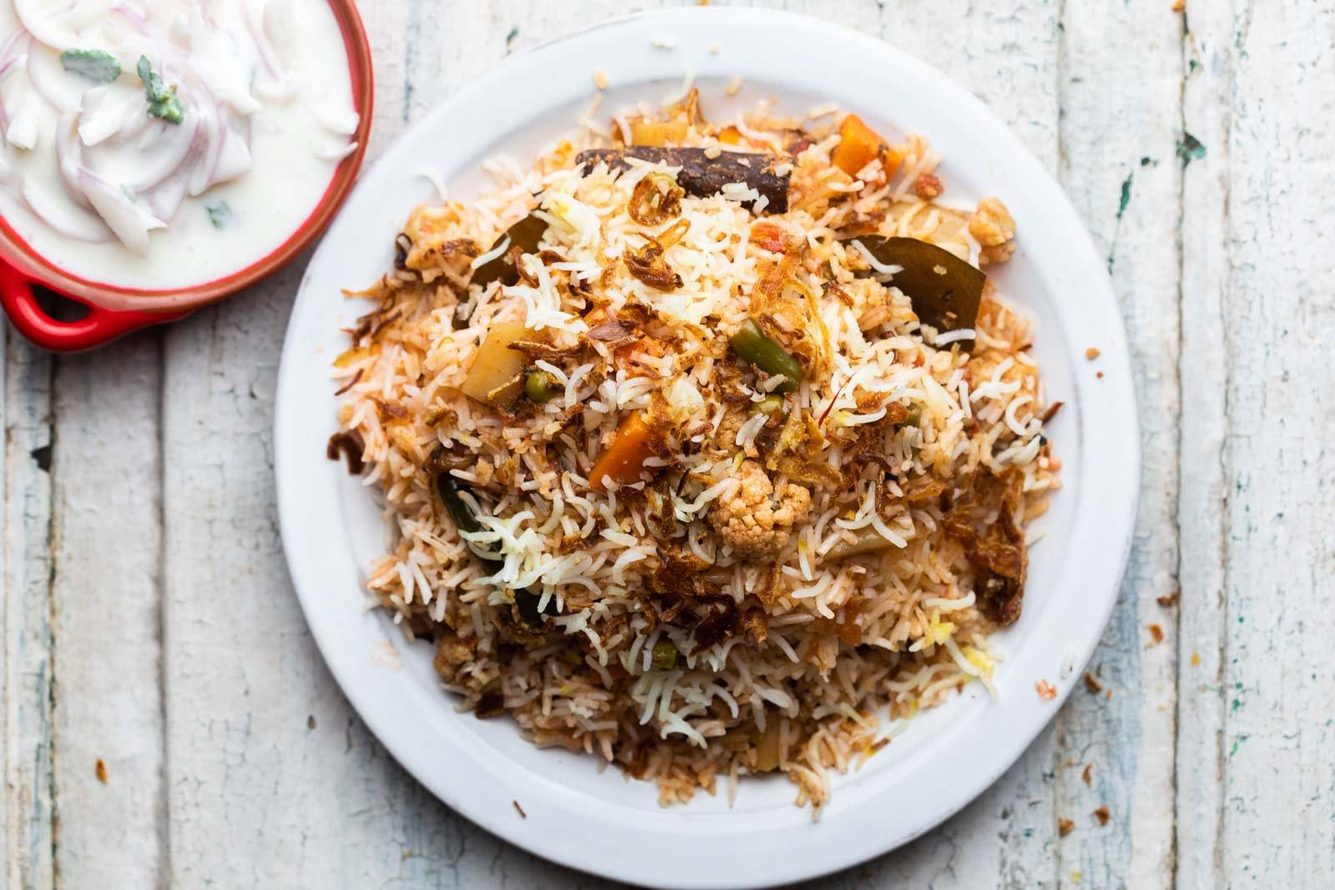Biryani: (363, 101, 1035, 764)
